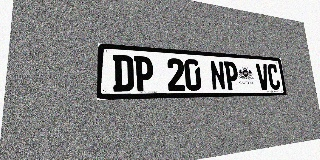0: (184, 59, 202, 91)
2: (167, 58, 185, 91)
C: (267, 64, 281, 90)
D: (113, 54, 134, 92)
N: (209, 60, 226, 91)
P: (134, 56, 154, 91), (224, 61, 239, 90)
V: (256, 63, 270, 90)
